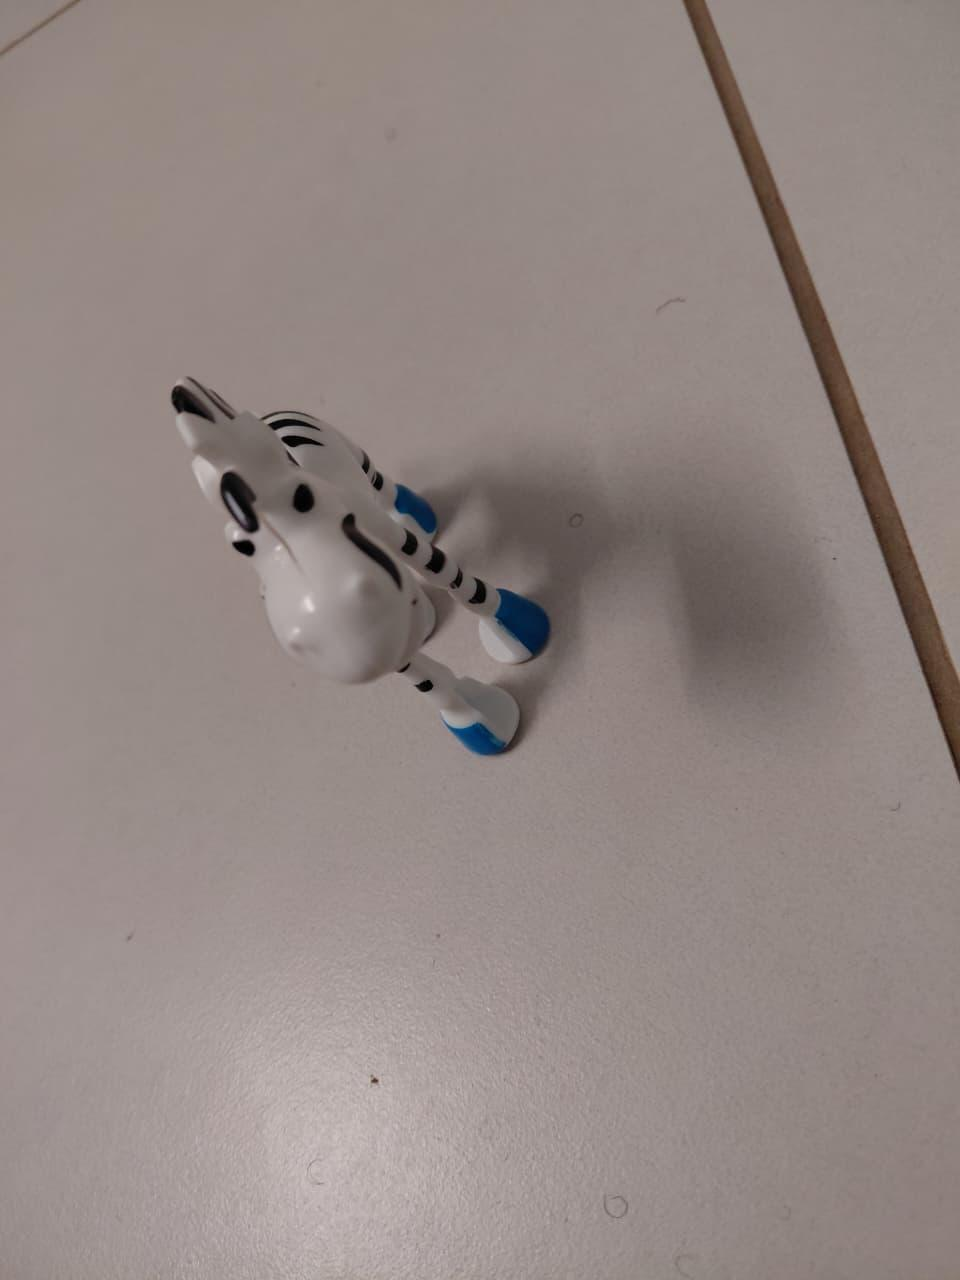zebra: (98, 321, 612, 843)
